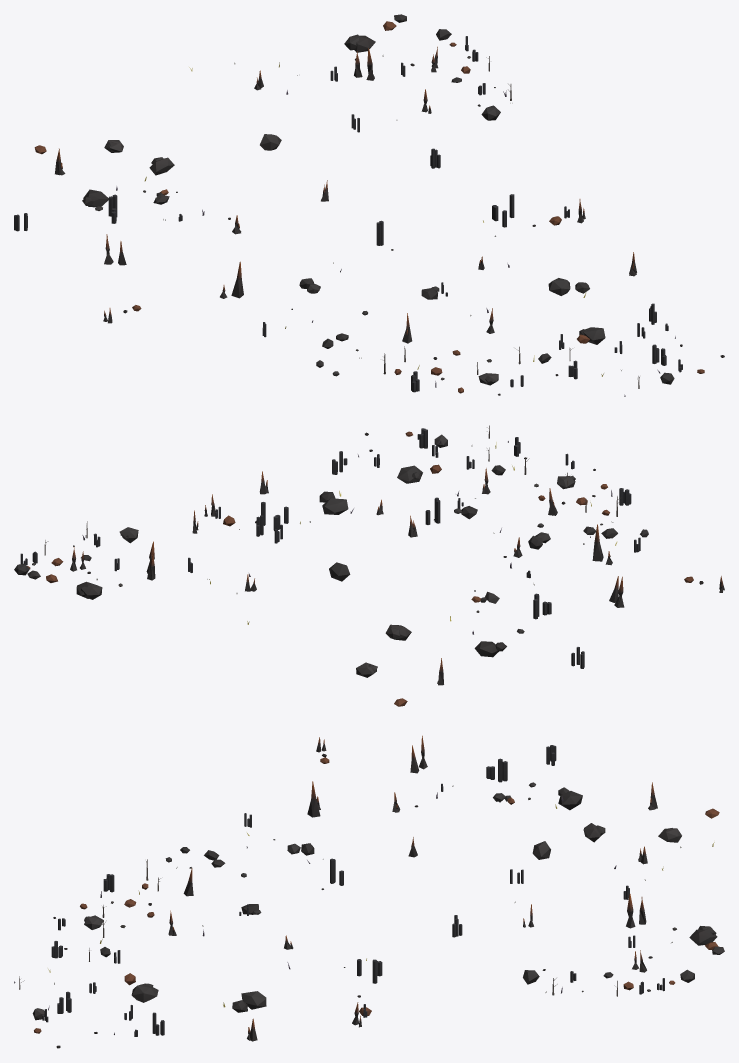
The model's file is ash_land_scatter_c17_28_lod1.glb.
The picture shows the model from 3 angles, top to bottom: view 1: azimuth 30°, elevation 25°; view 2: azimuth 150°, elevation 25°; view 3: azimuth 270°, elevation 25°; orthographic projection.
Parts seen in each view (by area): view 1: ash_land_scatter_c17_28_lod1; view 2: ash_land_scatter_c17_28_lod1; view 3: ash_land_scatter_c17_28_lod1.
Part boxes in pixels (x1,y1,x2,y2): ash_land_scatter_c17_28_lod1: (14,14,724,396); ash_land_scatter_c17_28_lod1: (14,425,724,706); ash_land_scatter_c17_28_lod1: (14,735,724,1048).
Bounding box in the file's own units: 216 × 47.37 × 248.
